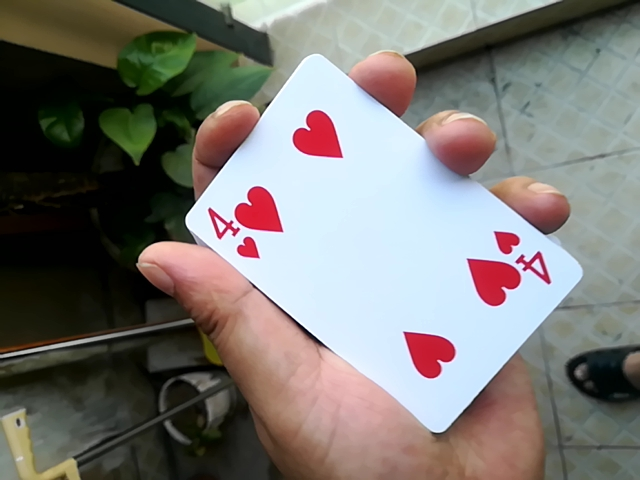hx 4: (174, 58, 580, 444)
